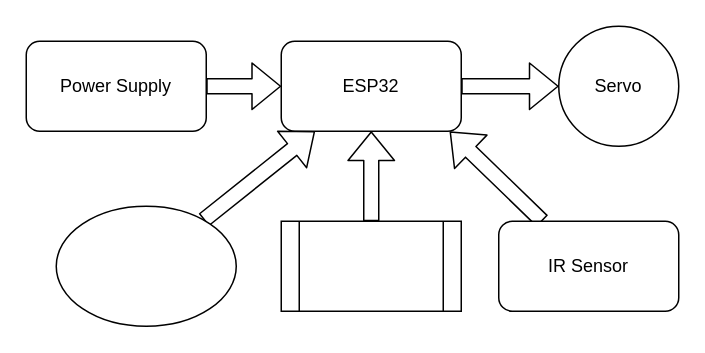
This 705x353 diagram has some shape labels left out. Here are the shapes that lost their labels. From the top down, the box of each, then its label:
(55, 205, 236, 326): HC-SR04
(280, 220, 461, 311): Capacitive Pad
